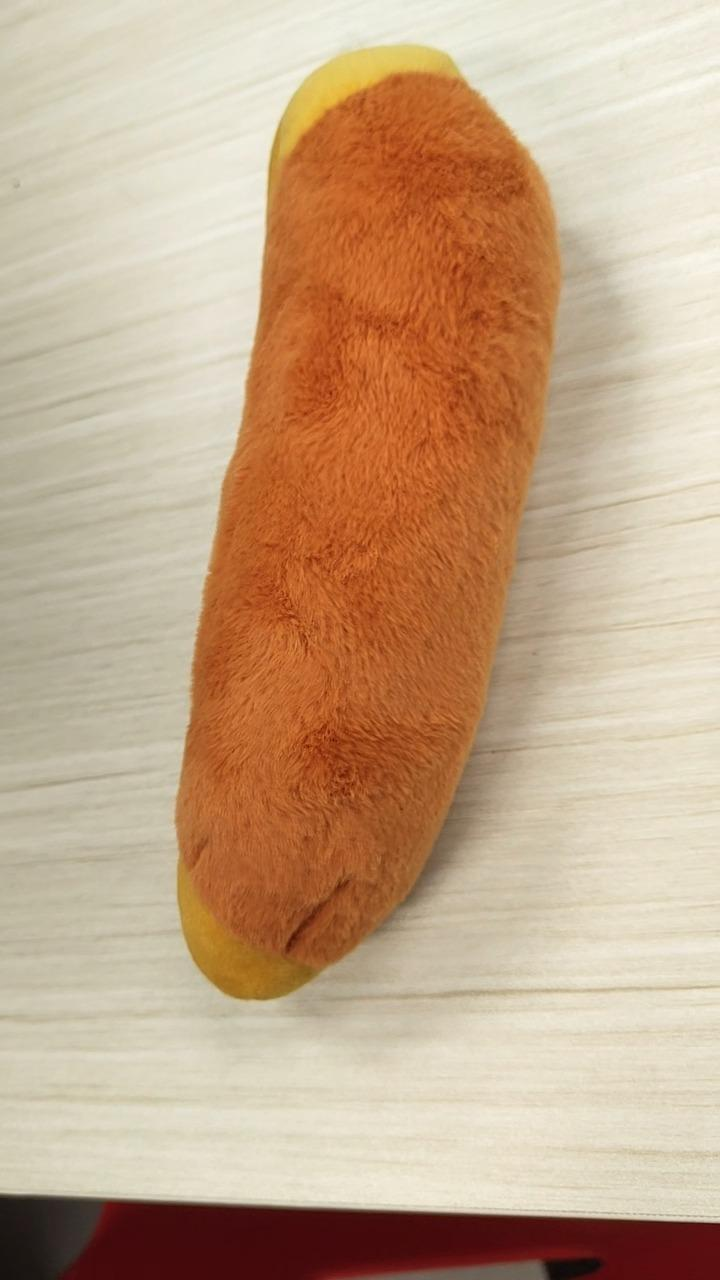hotdog: (173, 41, 562, 1001)
